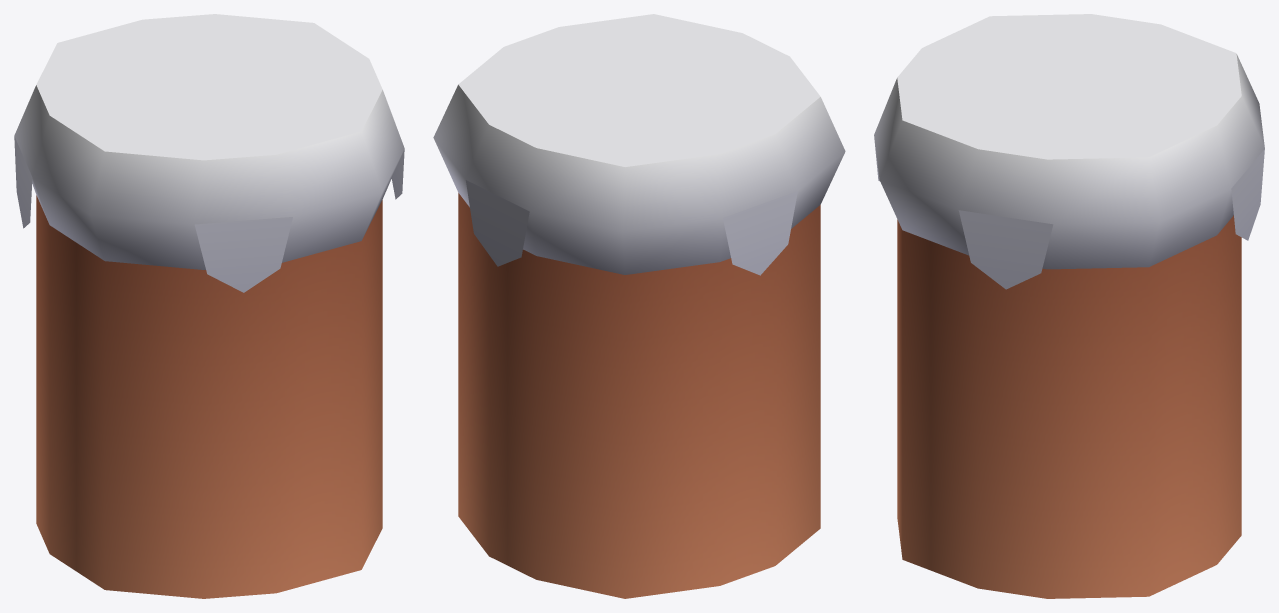
File: n5_n5_block-snow-overhang-narrow_lev5.003.glb
3 views of the same model, side by side, from view 1: azimuth 30°, elevation 25°; view 2: azimuth 150°, elevation 25°; view 3: azimuth 270°, elevation 25° (orthographic).
Visible parts, largest first — view 1: n5_n5_block-snow-overhang-narrow_lev5.003; view 2: n5_n5_block-snow-overhang-narrow_lev5.003; view 3: n5_n5_block-snow-overhang-narrow_lev5.003.
Part boxes in pixels (x1,y1,x2,y2): n5_n5_block-snow-overhang-narrow_lev5.003: (14, 14, 404, 598); n5_n5_block-snow-overhang-narrow_lev5.003: (433, 14, 845, 598); n5_n5_block-snow-overhang-narrow_lev5.003: (874, 14, 1264, 598).
Size of the model in its own units: 2.8 by 3.47 by 2.8.
Materials: 1 (1 with a texture image).
